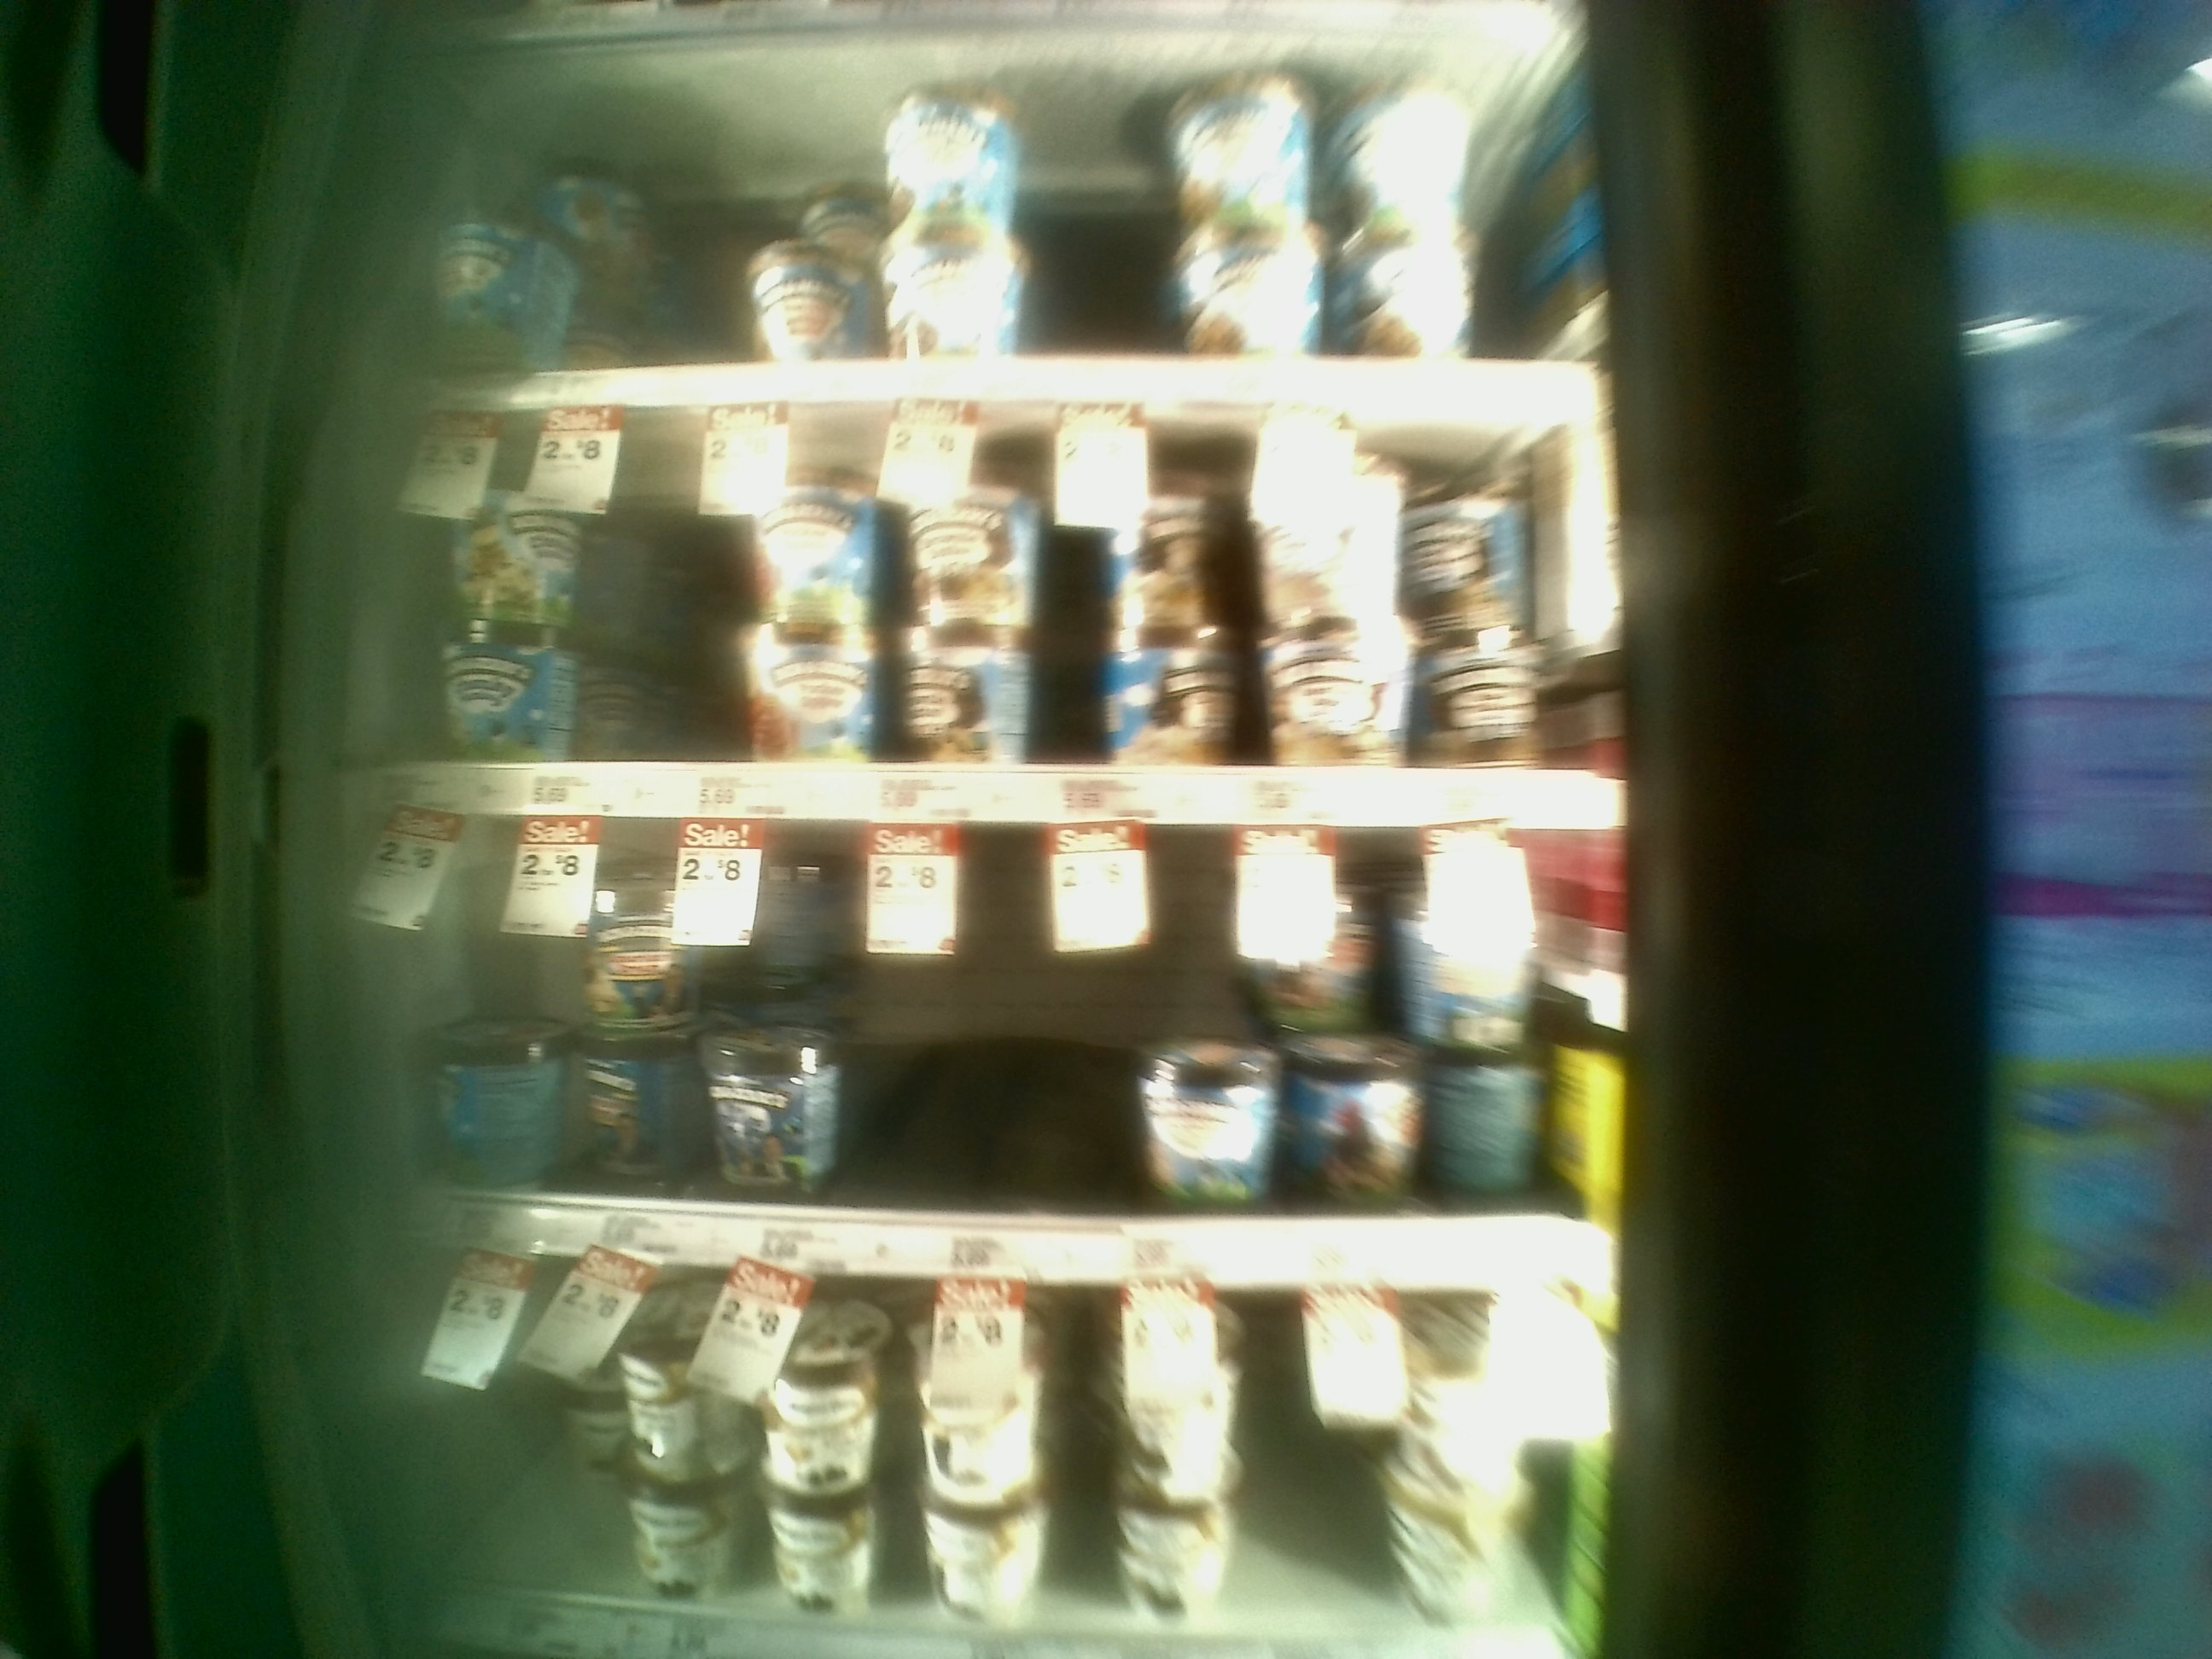shelf: (355, 817, 1629, 1286), (359, 397, 1627, 828)
